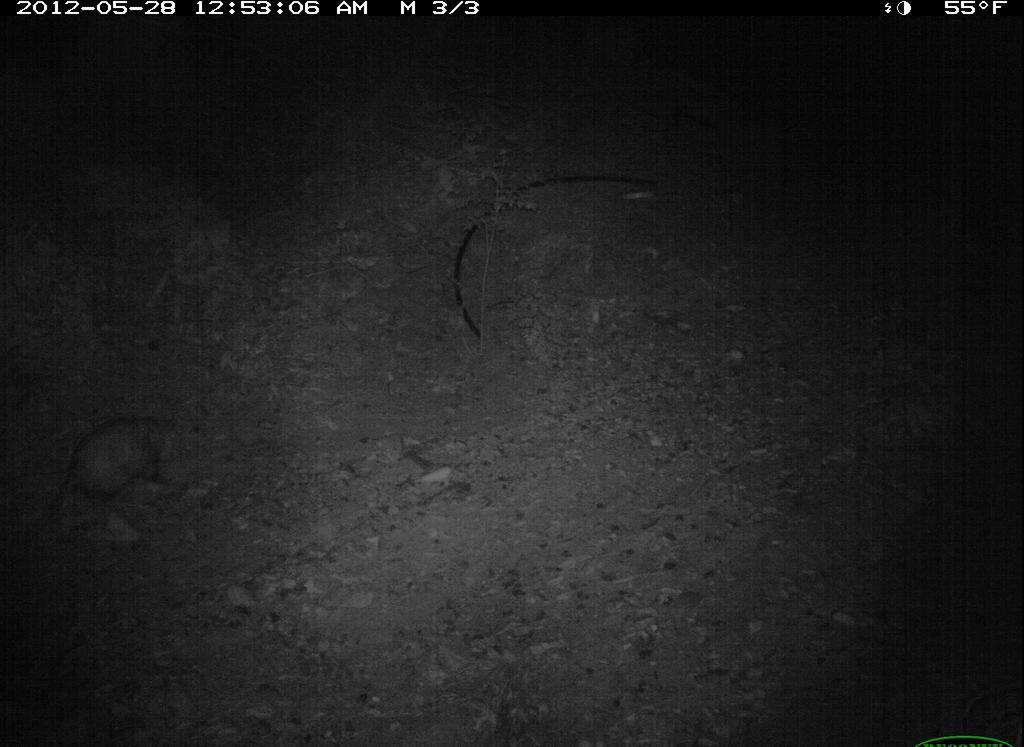opossum: (35, 397, 189, 542)
